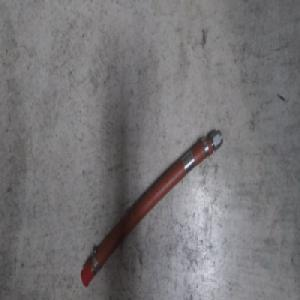Hose: (79, 125, 224, 290)
